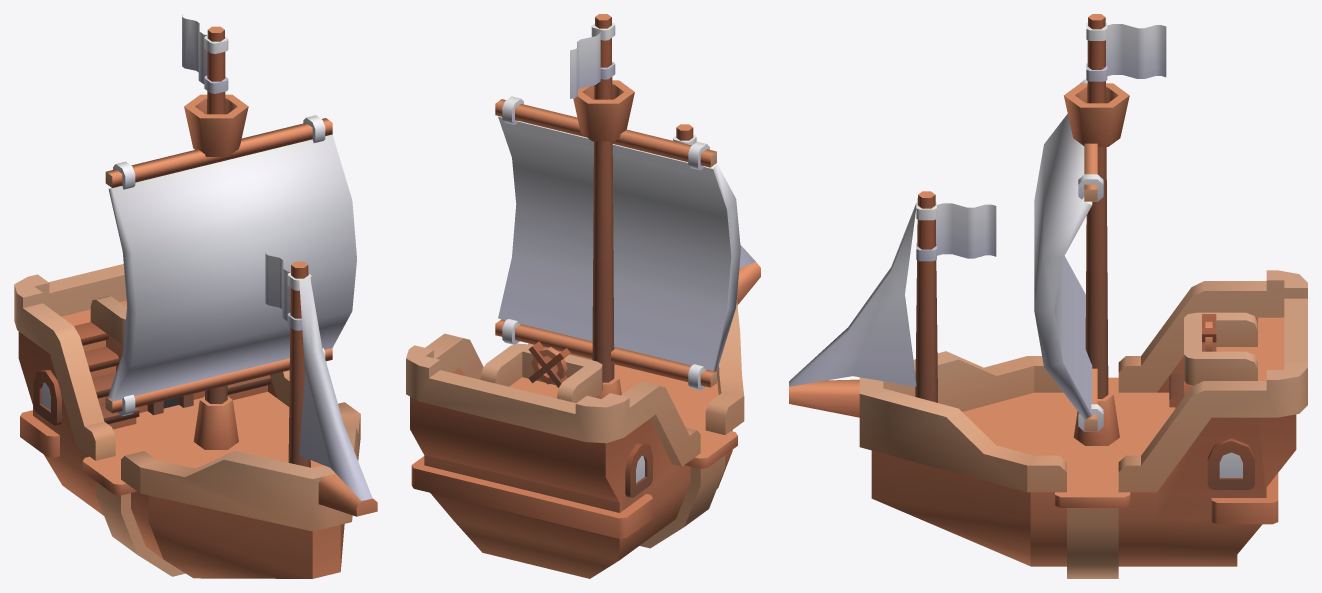
Rendered from ship-small.glb.
3 renders of one model, left to right at view 1: azimuth 30°, elevation 25°; view 2: azimuth 150°, elevation 25°; view 3: azimuth 270°, elevation 25°, orthographic. The views are drawn at different scales.
Parts seen in each view (by area): view 1: ship-small; view 2: ship-small; view 3: ship-small.
Part boxes in pixels (box(x1,y1,x2,y2)): ship-small: box(14, 15, 377, 578); ship-small: box(406, 14, 760, 578); ship-small: box(789, 14, 1307, 578).
Bounding box in the file's own units: 4.8 × 9.96 × 8.8.
Materials: 1 (1 with a texture image).
